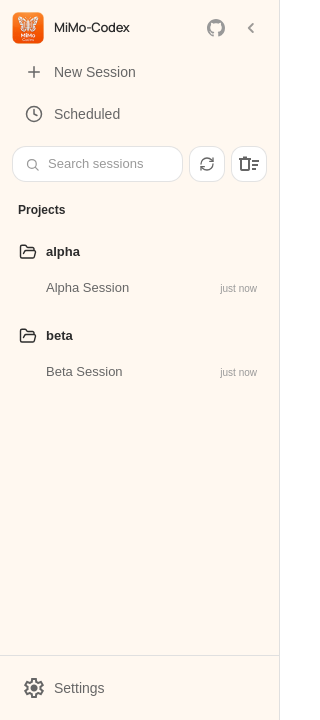
Test: Sidebar › collapses a project group without removing the project header
Step 1. Click the button with aria-label "Collapse alpha" → (108, 252), box [12,234,205,270]
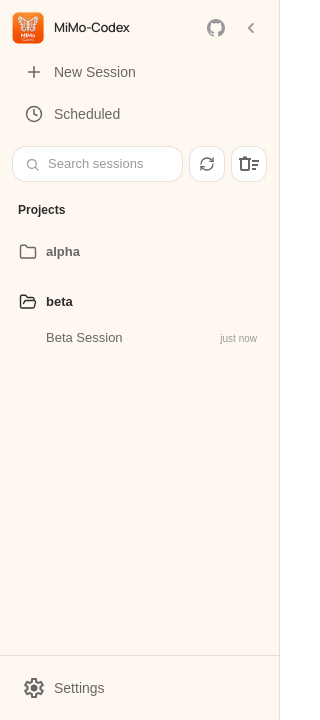
Expected: the text "alpha" is shown, [46,244,80,259]
Expected: the button "Alpha Session" is gone
